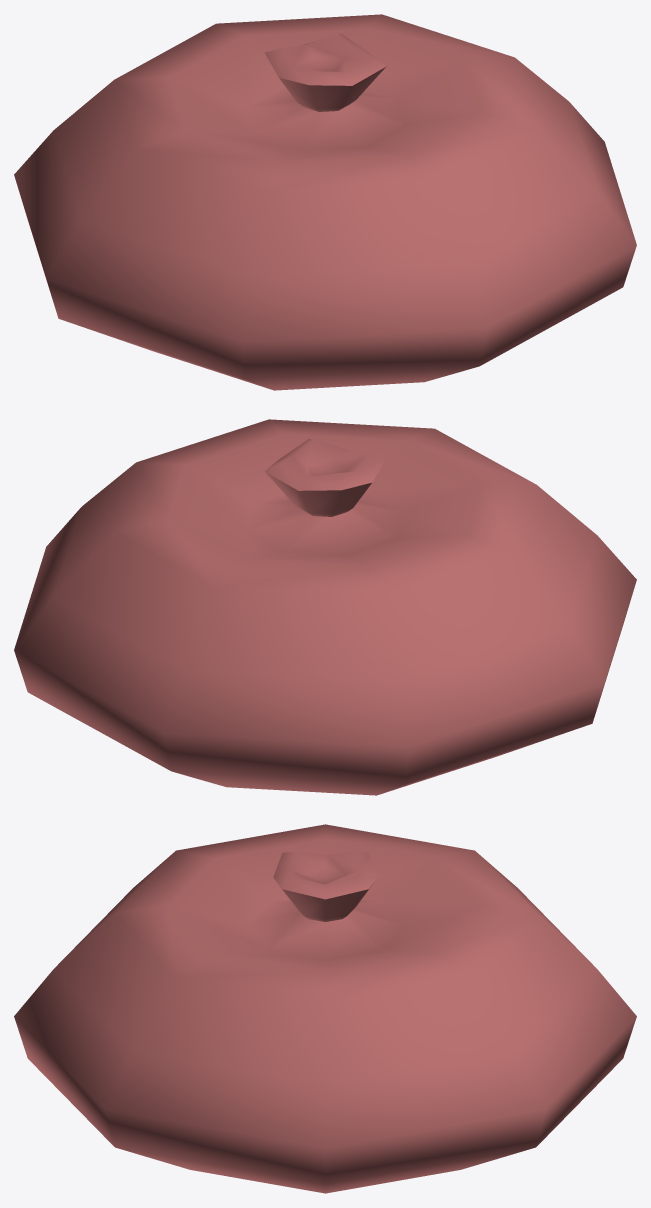
Rendered from Bag_1.fbx.
3 renders of one model, top to bottom at view 1: azimuth 30°, elevation 25°; view 2: azimuth 150°, elevation 25°; view 3: azimuth 270°, elevation 25°, orthographic. The views are drawn at different scales.
Visible parts, largest first — view 1: Bag_1; view 2: Bag_1; view 3: Bag_1.
Part boxes in pixels (x1,y1,x2,y2): Bag_1: (14,14,636,390); Bag_1: (14,419,636,795); Bag_1: (14,824,636,1193).
Size of the model in its own units: 45.66 by 20.05 by 45.66.
